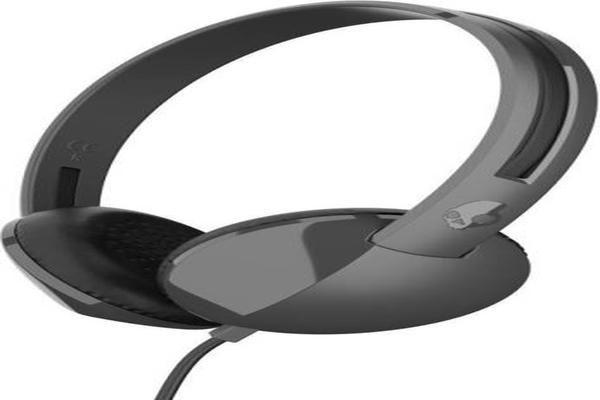headphone: (5, 8, 600, 373)
